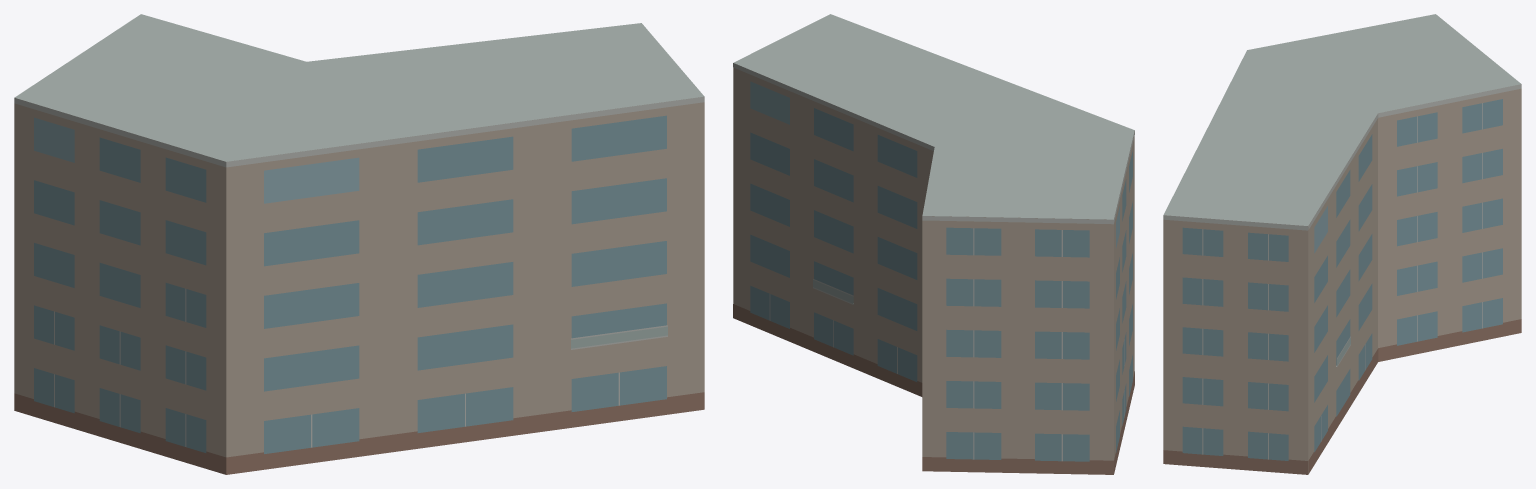
The model's file is survey-upis-32942517.glb.
The picture shows the model from 3 angles, left to right: view 1: azimuth 30°, elevation 25°; view 2: azimuth 150°, elevation 25°; view 3: azimuth 270°, elevation 25°; orthographic projection. The views are drawn at different scales.
Parts seen in each view (by area): view 1: survey-upis-32942517.tmp; view 2: survey-upis-32942517.tmp; view 3: survey-upis-32942517.tmp.
Part boxes in pixels (left/top/right/bottom): survey-upis-32942517.tmp: left=14, top=14, right=704, bottom=474; survey-upis-32942517.tmp: left=733, top=14, right=1134, bottom=474; survey-upis-32942517.tmp: left=1163, top=14, right=1521, bottom=474.
Bounding box in the file's own units: 24.79 × 13.55 × 17.7.
